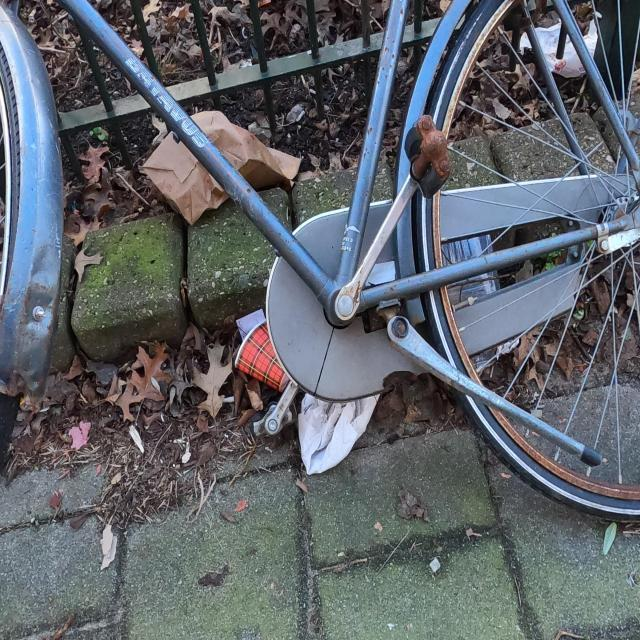Cup: (229, 319, 292, 392)
